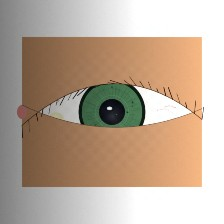pinguecula_lesion: (40, 107, 71, 132)
